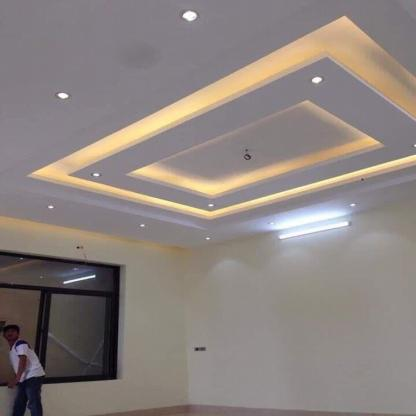Gypsum Board: (0, 14, 413, 256)
